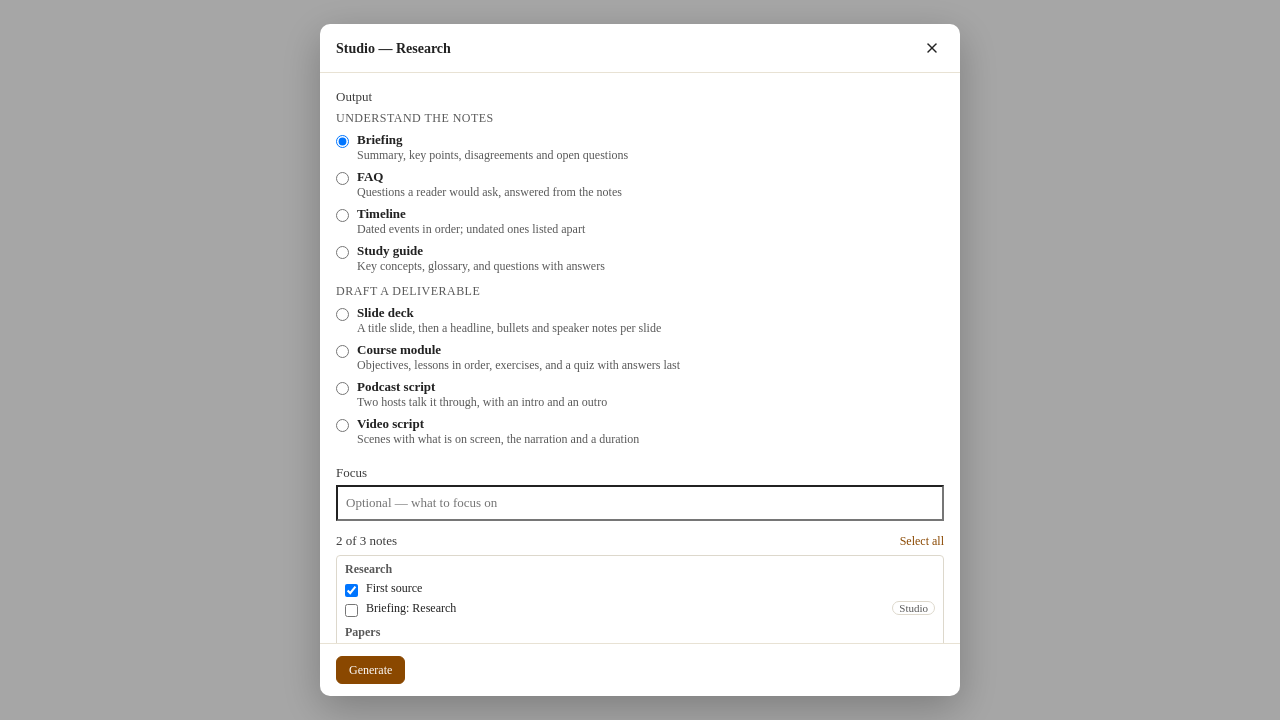
Test: StudioModal › From other folders › Generate needs a ticked folder note
Click the button with class "studio-toggle-all". click: click(922, 542)
box: x1=900 y1=534 x2=944 y2=549
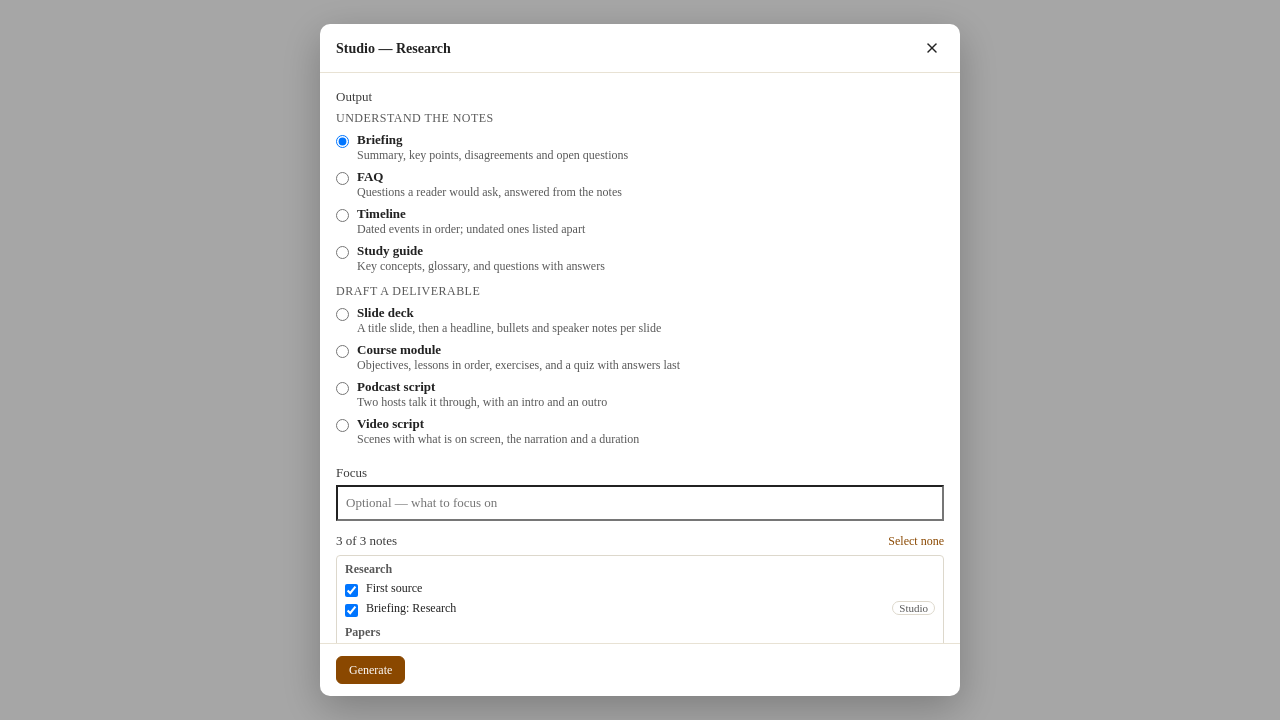
Click the button with class "studio-toggle-all". click: click(916, 542)
box: x1=888 y1=534 x2=944 y2=549
(page scrolled)
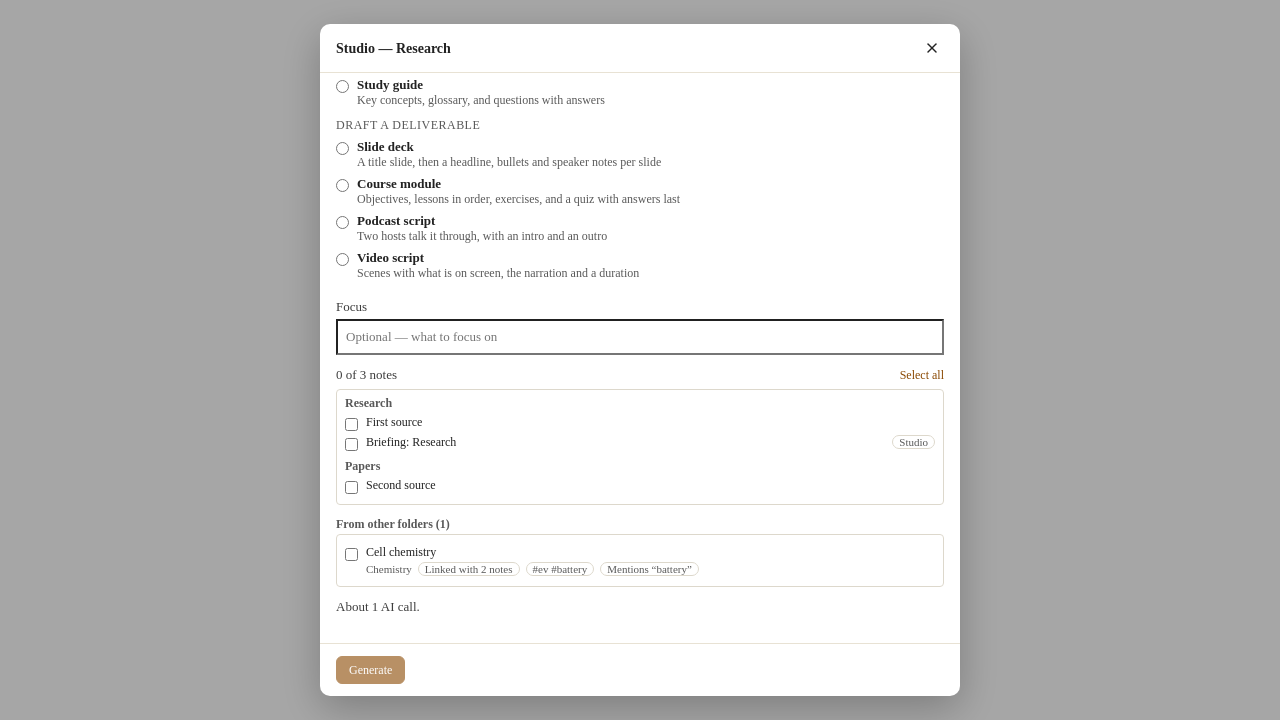
Click the 4th checkbox. click: click(352, 554)
box: x1=345 y1=548 x2=358 y2=561
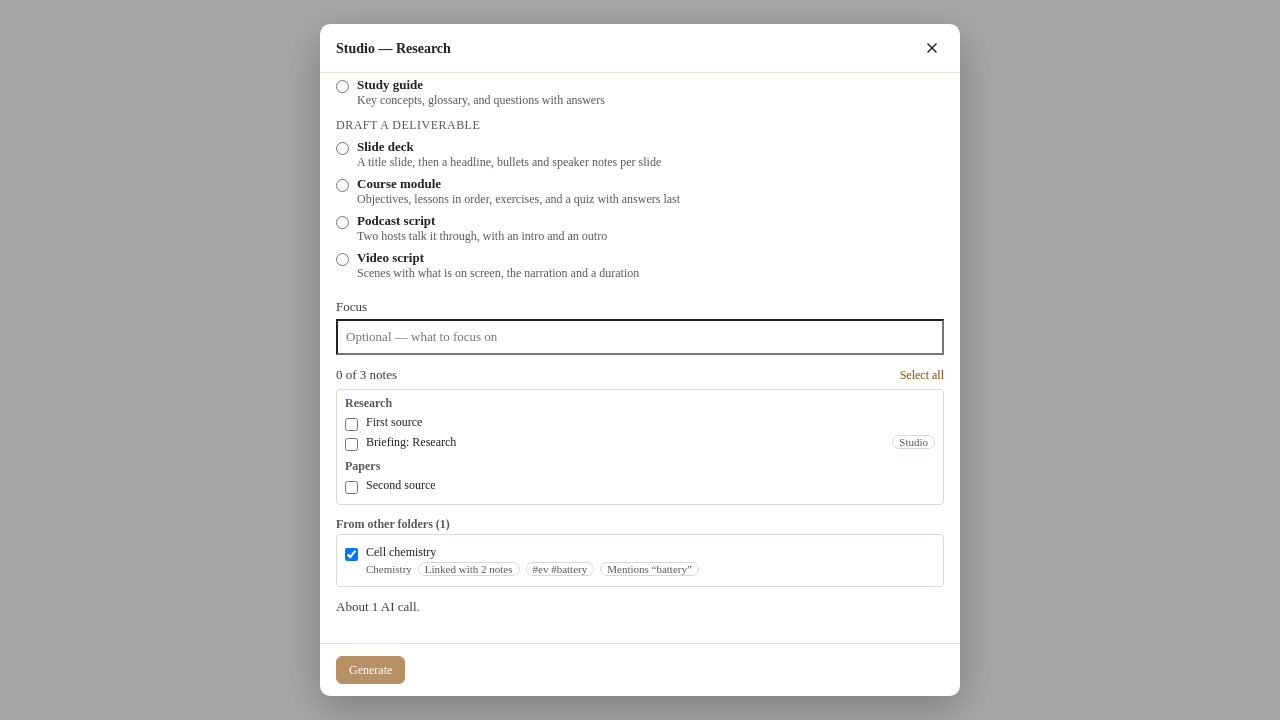
Expected: the button "Generate" is disabled, x1=336 y1=656 x2=405 y2=684
Click the checkbox labelled "First source". click: click(352, 424)
box: x1=345 y1=418 x2=358 y2=431
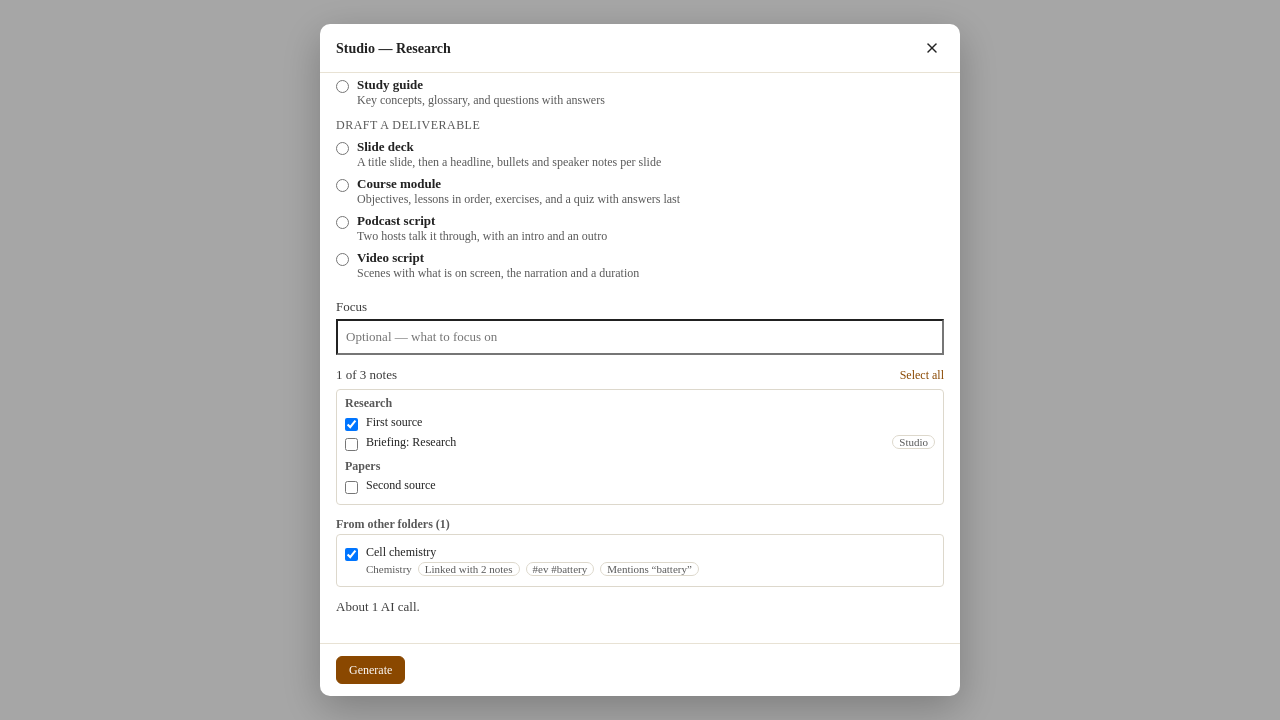
Expected: the button "Generate" is enabled, x1=336 y1=656 x2=405 y2=684
